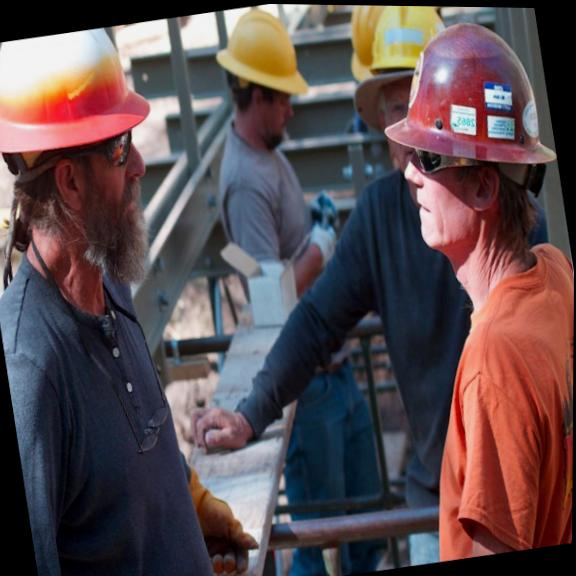no_safety_vest: (0, 236, 207, 576), (332, 137, 544, 461), (388, 229, 574, 563), (202, 126, 331, 313)
